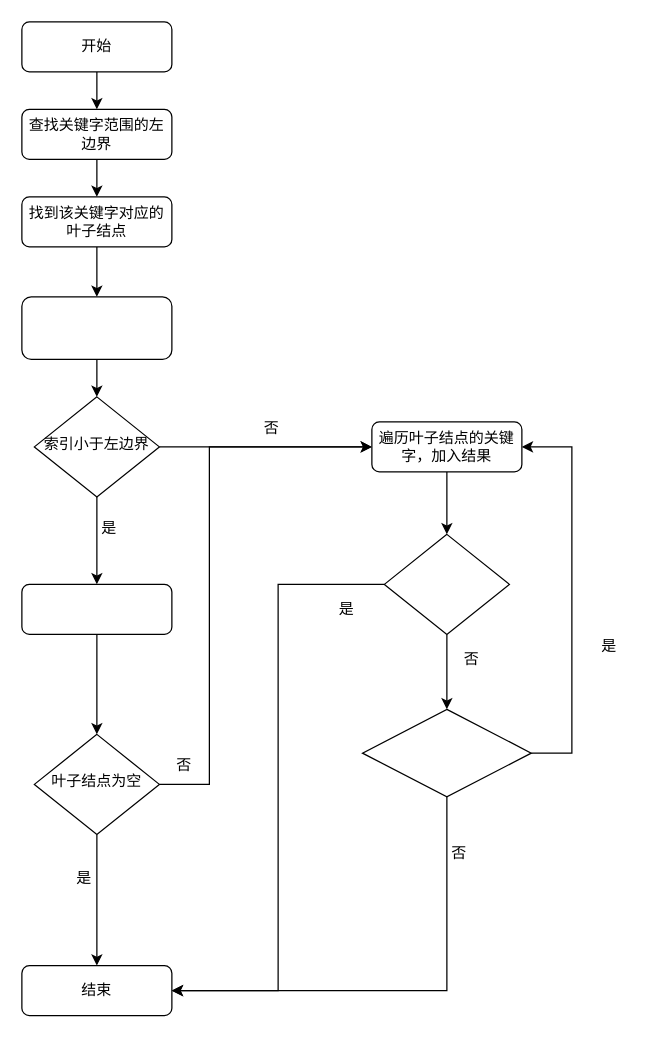
This 669x1038 diagram has some shape labels left out. The shapes that lost their labels are listed below. From the top down, each one's box as (x1, y1, x2, y2) in pixels, then its label:
(21, 296, 172, 359): 查找在大于关键字的叶子结点的最小键值的索引
(383, 533, 509, 634): 索引大于右边界
(21, 583, 172, 634): 查找下一个叶子节点
(361, 708, 531, 797): 下一个叶子结点不为空
